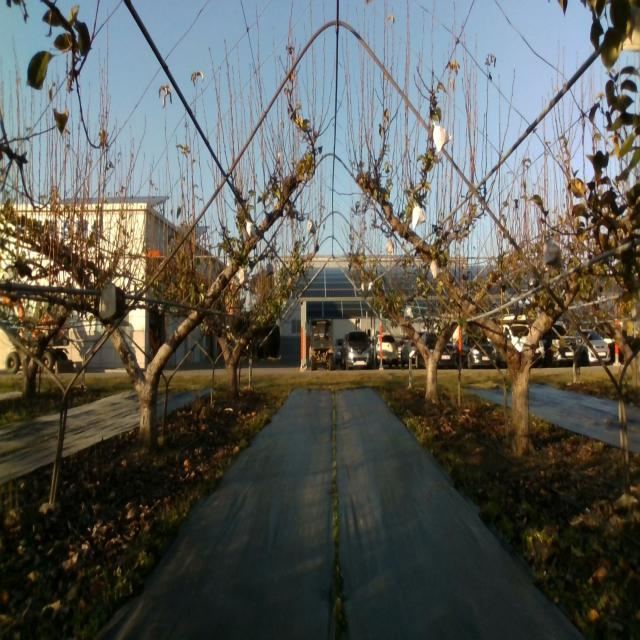pearbags: (432, 121, 452, 152), (543, 237, 563, 266), (412, 203, 426, 229), (430, 259, 441, 280)
